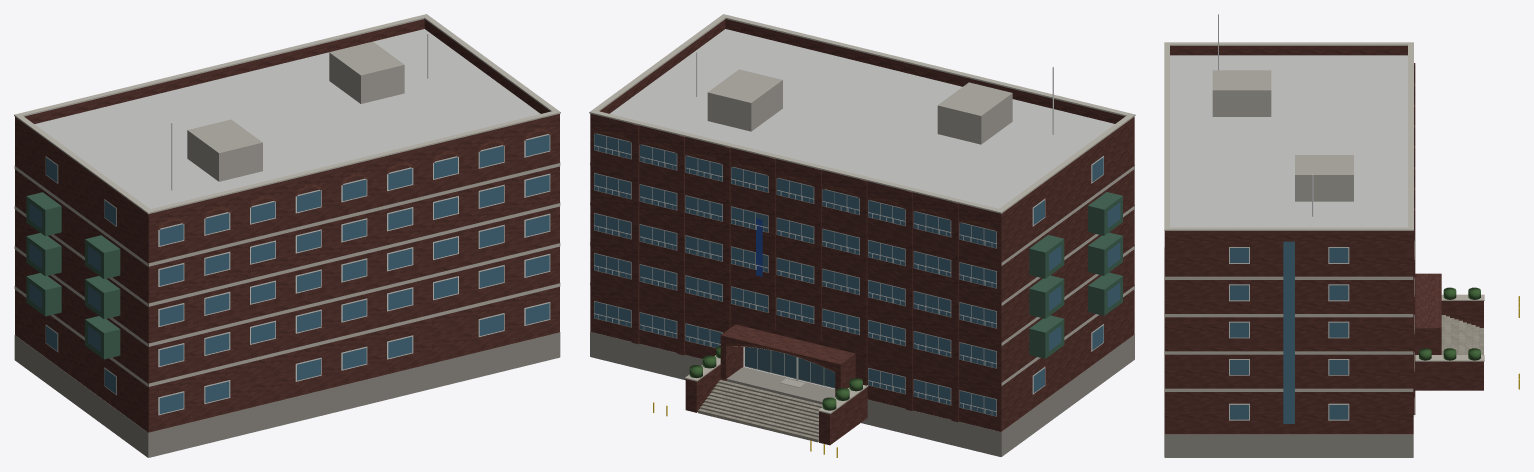
3 views of the same model, side by side, from view 1: azimuth 30°, elevation 25°; view 2: azimuth 150°, elevation 25°; view 3: azimuth 270°, elevation 25° (orthographic). The views are drawn at different scales.
Visible parts, largest first — view 1: w451562719__brick-wall, w451562719__roof, w451562719__glass, w451562719__foundation-wall, w451562719__concrete-wall, w451562719__stair-box-wall, w451562719__frame, w451562719__green-box-wall, w451562719__coping-stone, w451562719__brick-arch-wall; view 2: w451562719__brick-wall, w451562719__roof, w451562719__glass, w451562719__foundation-wall, w451562719__frame, w451562719__stair-box-wall, w451562719__green-box-wall, w451562719__coping-stone, w451562719__granite-stone, w451562719__concrete-wall, w451562719__door-glass, w451562719__brick-arch-wall (+1 smaller); view 3: w451562719__brick-wall, w451562719__roof, w451562719__foundation-wall, w451562719__stair-box-wall, w451562719__glass, w451562719__concrete-wall, w451562719__coping-stone, w451562719__granite-stone, w451562719__frame, w451562719__shrub.
Boxes of the visible parts, x1=… form: w451562719__brick-wall: x1=15, y1=19, x2=559, y2=432; w451562719__roof: x1=34, y1=29, x2=540, y2=209; w451562719__glass: x1=29, y1=135, x2=549, y2=413; w451562719__foundation-wall: x1=14, y1=332, x2=560, y2=457; w451562719__concrete-wall: x1=14, y1=162, x2=560, y2=386; w451562719__stair-box-wall: x1=187, y1=42, x2=404, y2=181; w451562719__frame: x1=45, y1=134, x2=550, y2=415; w451562719__green-box-wall: x1=26, y1=192, x2=120, y2=359; w451562719__coping-stone: x1=14, y1=14, x2=560, y2=214; w451562719__brick-arch-wall: x1=156, y1=128, x2=552, y2=230; w451562719__brick-wall: x1=590, y1=19, x2=1134, y2=445; w451562719__roof: x1=610, y1=29, x2=1114, y2=208; w451562719__glass: x1=594, y1=133, x2=1120, y2=415; w451562719__foundation-wall: x1=590, y1=331, x2=1134, y2=456; w451562719__frame: x1=594, y1=133, x2=1103, y2=416; w451562719__stair-box-wall: x1=707, y1=69, x2=1012, y2=144; w451562719__green-box-wall: x1=1029, y1=192, x2=1122, y2=358; w451562719__coping-stone: x1=589, y1=14, x2=1135, y2=213; w451562719__granite-stone: x1=698, y1=380, x2=822, y2=442; w451562719__concrete-wall: x1=590, y1=162, x2=1134, y2=414; w451562719__door-glass: x1=745, y1=347, x2=835, y2=387; w451562719__brick-arch-wall: x1=592, y1=131, x2=998, y2=372; w451562719__brick-wall: x1=1164, y1=46, x2=1483, y2=434; w451562719__roof: x1=1170, y1=55, x2=1407, y2=227; w451562719__foundation-wall: x1=1164, y1=247, x2=1413, y2=457; w451562719__stair-box-wall: x1=1212, y1=70, x2=1353, y2=201; w451562719__glass: x1=1230, y1=241, x2=1348, y2=423; w451562719__concrete-wall: x1=1165, y1=276, x2=1484, y2=391; w451562719__coping-stone: x1=1164, y1=42, x2=1413, y2=230; w451562719__granite-stone: x1=1441, y1=315, x2=1483, y2=354; w451562719__frame: x1=1229, y1=241, x2=1414, y2=420; w451562719__shrub: x1=1419, y1=287, x2=1480, y2=360.
Size of the model in its own units: 39.2 by 26.3 by 30.25.
Materials: 18 (3 with a texture image).
